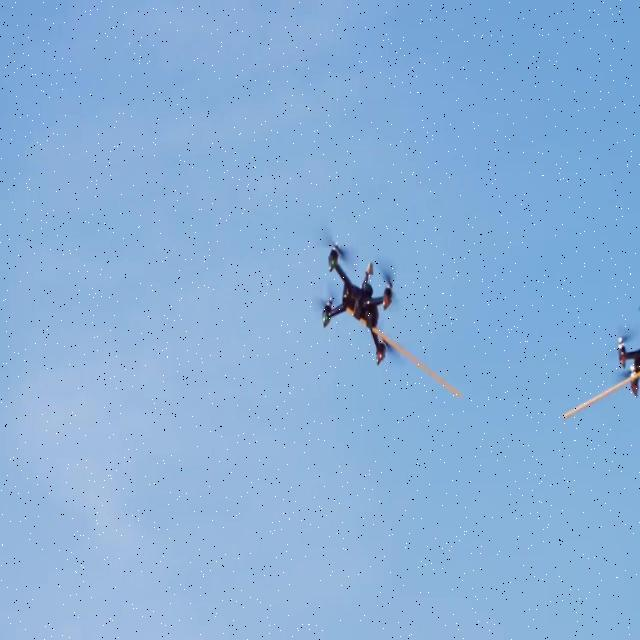UAV: (320, 244, 394, 366)
